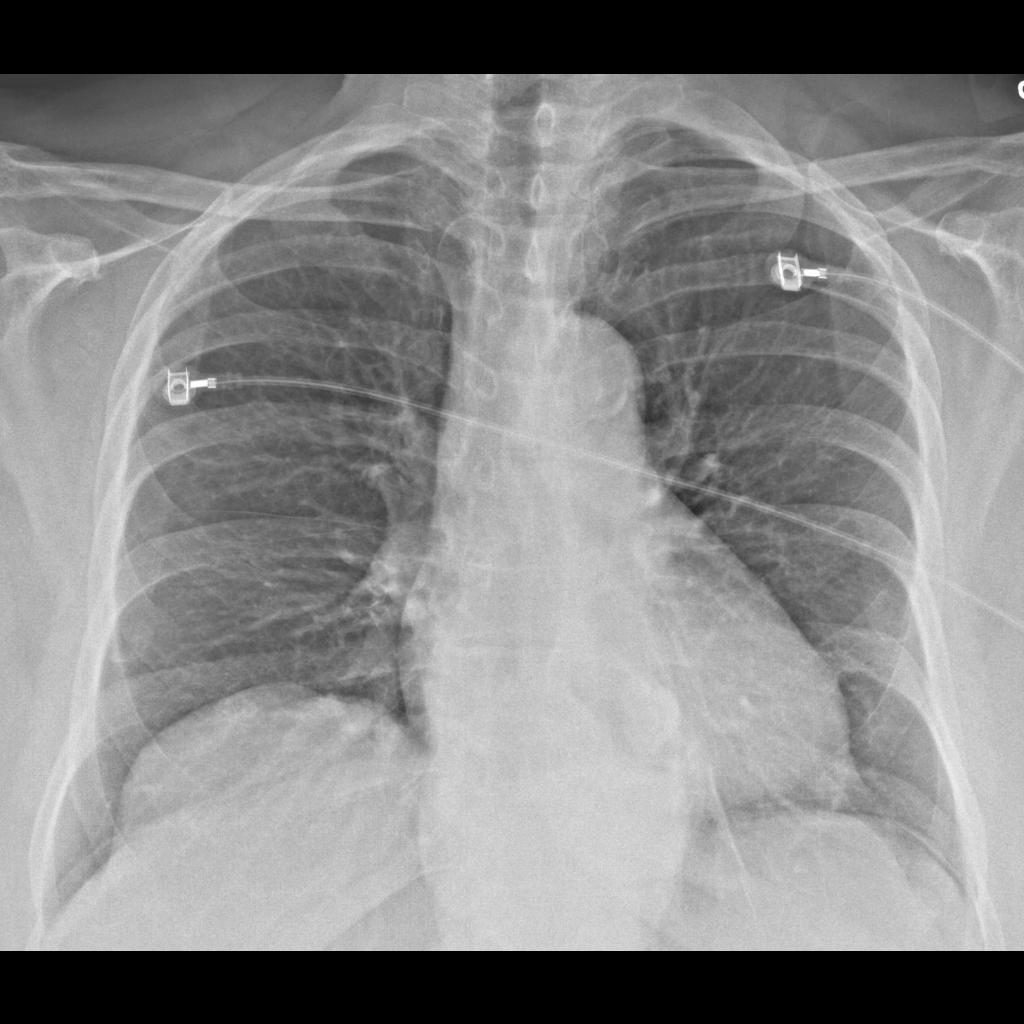Nodule: (607, 669, 684, 757)
